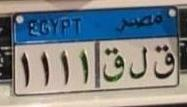1: (79, 48, 91, 83), (20, 52, 30, 86), (40, 50, 49, 86), (62, 50, 69, 83)
laam: (127, 47, 150, 81)
qaaf: (152, 43, 176, 79), (103, 47, 124, 82)
